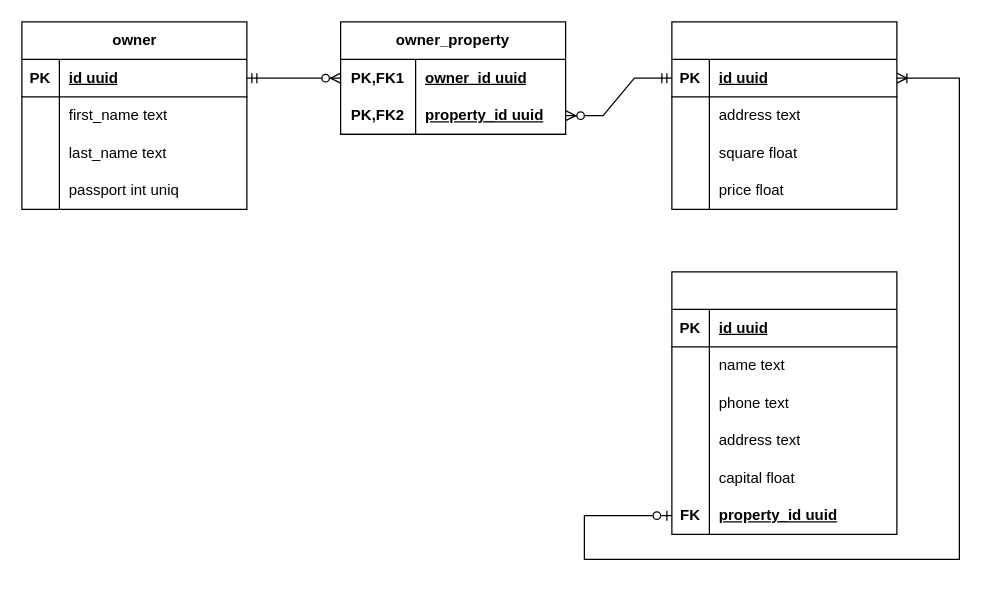
Image size: 993x593. Some labels were removed from this diagram. The shapes that lost their labels are listed below. From the top down, each one's box as (x1, y1, x2, y2) in pixels, then its label:
(671, 21, 897, 209): property
(671, 271, 897, 534): hcs
